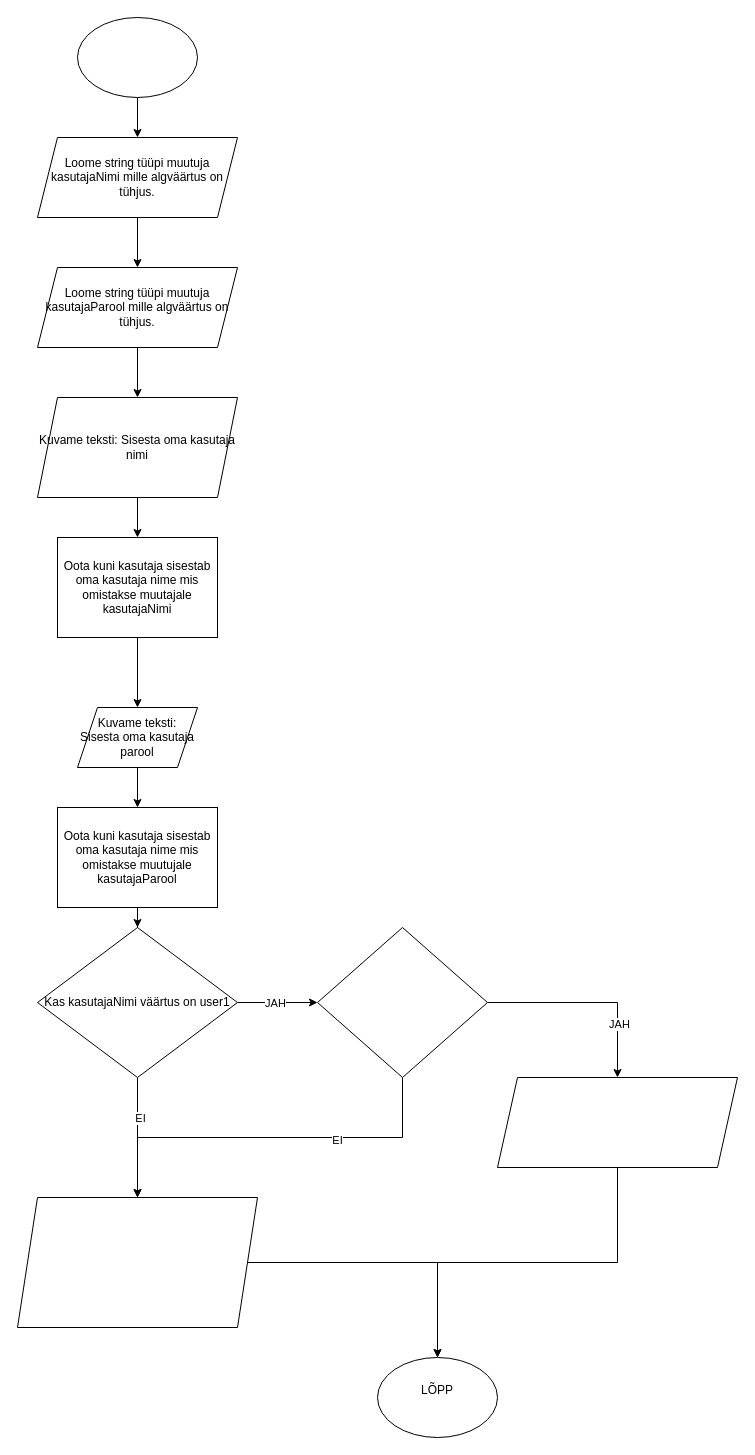
The diagram is 755 pixels wide and 1455 high, and some of its shapes have lost their labels. The centre of each missing label's shape, as x and y in pixels:
"ALGUS" belongs at point 137,57.
"Kas kasutajaParool väärtus on Password1" belongs at point 402,1002.
"Kuva kasutajale tekst: olete sisse logitud" belongs at point 617,1122.
"Kuva tekst: kasutaja nimi või kasutaja parool pole õige" belongs at point 137,1262.
